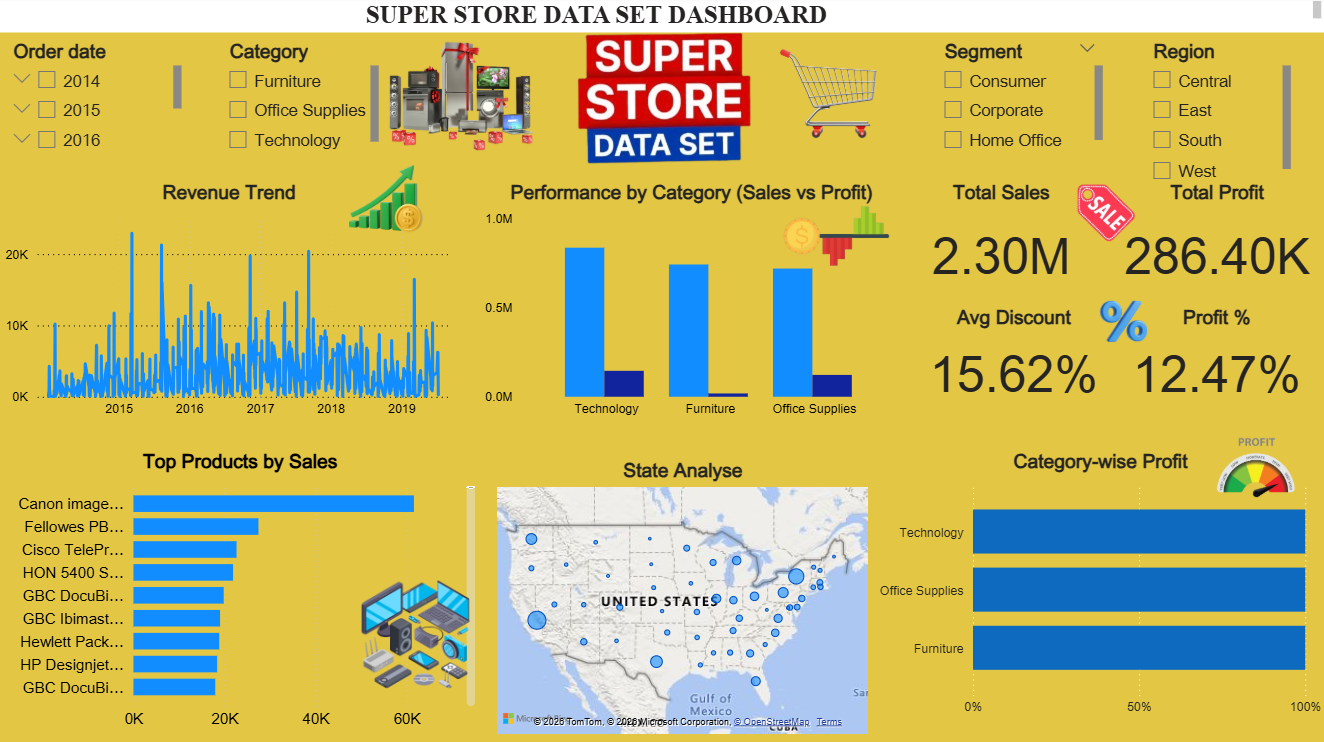

This screenshot's page, from the dashboard's own definition file:
{"tool":"powerbi","page":{"name":"Dashboard","canvas":[1280,720],"ordinal":0},"visuals":[{"type":"card","title":"Total Sales","fields":{"Values":["Sample - Superstore clean.TOTAL SALES"]},"box":[871.4,176.6,190.9,120.8],"z":0},{"type":"card","title":"Total Profit","fields":{"Values":["Sample - Superstore clean.Total Profit"]},"box":[1068.8,176.6,211.7,120.8],"z":1000},{"type":"card","title":"Avg Discount","fields":{"Values":["Sample - Superstore clean.Avg Discount"]},"box":[871.8,297.2,212.7,107],"z":2000},{"type":"card","title":"Profit %","fields":{"Values":["Sample - Superstore clean.Profit%","select"]},"box":[1069,297.2,211.3,107],"z":3000},{"type":"lineChart","title":"Revenue Trend","fields":{"Category":["Sample - Superstore clean.Order Date "],"Y":["Sum(Sample - Superstore clean.Sales)"]},"box":[0,176.1,442.3,240.8],"z":4000},{"type":"clusteredBarChart","title":"Top Products by  Sales","fields":{"Y":["Sum(Sample - Superstore clean.Sales)"],"Category":["Sample - Superstore clean.Product Name"]},"box":[0,435.1,463.6,283.1],"z":5000},{"type":"clusteredColumnChart","title":"Performance by Category (Sales vs Profit)","fields":{"Category":["Sample - Superstore clean.Category"],"Y":["Sum(Sample - Superstore clean.Sales)","Sum(Sample - Superstore clean.Profit)"]},"box":[463.4,176.1,408.5,240.8],"z":6000},{"type":"map","title":"State Analyse","fields":{"Category":["Sample - Superstore clean.State","Sample - Superstore clean.Region"],"Size":["Sum(Sample - Superstore clean.Sales)"]},"box":[475.3,444.2,367.5,272.7],"z":7000},{"type":"hundredPercentStackedBarChart","title":"Category-wise Profit","fields":{"Category":["Sample - Superstore clean.Category"],"Y":["Sum(Sample - Superstore clean.Profit)"]},"box":[842.9,435.1,437.7,268.8],"z":8000},{"type":"slicer","fields":{"Values":["Sample - Superstore clean.Order Date .Variation.Date Hierarchy.Year","Sample - Superstore clean.Order Date .Variation.Date Hierarchy.Quarter","Sample - Superstore clean.Order Date .Variation.Date Hierarchy.Month","Sample - Superstore clean.Order Date .Variation.Date Hierarchy.Day"]},"box":[0,35.2,180.3,122.5],"z":9000},{"type":"slicer","fields":{"Values":["Sample - Superstore clean.Category"]},"box":[208.5,35.2,162,122.5],"z":10000},{"type":"slicer","fields":{"Values":["Sample - Superstore clean.Region"]},"box":[1100,35.2,150.7,149.3],"z":11000},{"type":"slicer","fields":{"Values":["Sample - Superstore clean.Segment"]},"box":[898.6,35.2,170.4,121.1],"z":12000},{"type":"image","box":[335.1,554.5,128.6,124.7],"z":13000},{"type":"image","box":[1010.4,176.6,115.6,70.1],"z":14000},{"type":"image","box":[1024.7,271.4,119.5,88.3],"z":15000},{"type":"image","box":[315.6,157.1,113,77.9],"z":16000},{"type":"image","box":[703.9,26,206.5,131.2],"z":17000},{"type":"image","box":[724.7,167.5,164.9,128.6],"z":18000},{"type":"image","box":[1145.5,416.9,135.1,75.3],"z":19000},{"type":"image","box":[488.3,26,305.2,150.6],"z":20000},{"type":"image","box":[361,35.1,163.6,122.1],"z":21000},{"type":"textbox","box":[0,0,1280,35],"z":21001}]}

Visuals, with their boxes in screenshot pixels (x1, y1, x2, y2), scaled from the page's 1280x720 canvas onto the 1324x742 screenshot:
"Total Sales" card: (left=901, top=182, right=1099, bottom=306)
"Total Profit" card: (left=1106, top=182, right=1323, bottom=306)
"Avg Discount" card: (left=902, top=306, right=1122, bottom=417)
"Profit %" card: (left=1106, top=306, right=1323, bottom=417)
"Revenue Trend" lineChart: (left=0, top=181, right=458, bottom=430)
"Top Products by  Sales" clusteredBarChart: (left=0, top=448, right=480, bottom=740)
"Performance by Category (Sales vs Profit)" clusteredColumnChart: (left=479, top=181, right=902, bottom=430)
"State Analyse" map: (left=492, top=458, right=872, bottom=739)
"Category-wise Profit" hundredPercentStackedBarChart: (left=872, top=448, right=1323, bottom=725)
slicer - Sample - Superstore clean.Order Date .Variation.Date Hierarchy.Year x Sample - Superstore clean.Order Date .Variation.Date Hierarchy.Quarter: (left=0, top=36, right=186, bottom=163)
slicer - Sample - Superstore clean.Category: (left=216, top=36, right=383, bottom=163)
slicer - Sample - Superstore clean.Region: (left=1138, top=36, right=1294, bottom=190)
slicer - Sample - Superstore clean.Segment: (left=929, top=36, right=1106, bottom=161)
image: (left=347, top=571, right=480, bottom=700)
image: (left=1045, top=182, right=1165, bottom=254)
image: (left=1060, top=280, right=1184, bottom=371)
image: (left=326, top=162, right=443, bottom=242)
image: (left=728, top=27, right=942, bottom=162)
image: (left=750, top=173, right=920, bottom=305)
image: (left=1185, top=430, right=1323, bottom=507)
image: (left=505, top=27, right=821, bottom=182)
image: (left=373, top=36, right=543, bottom=162)
textbox: (left=0, top=0, right=1323, bottom=36)
